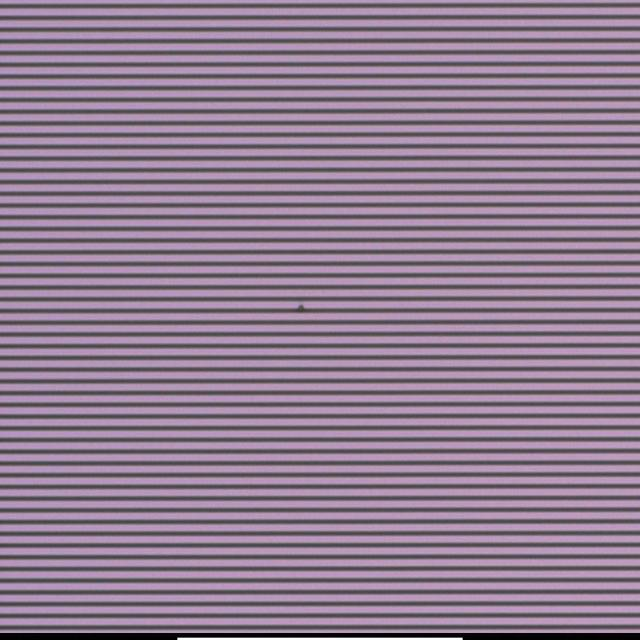03_intrusion: (295, 298, 308, 318)
